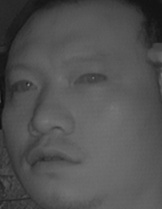eye: (72, 68, 110, 88), (10, 75, 39, 95)
mouth: (22, 143, 85, 176)
